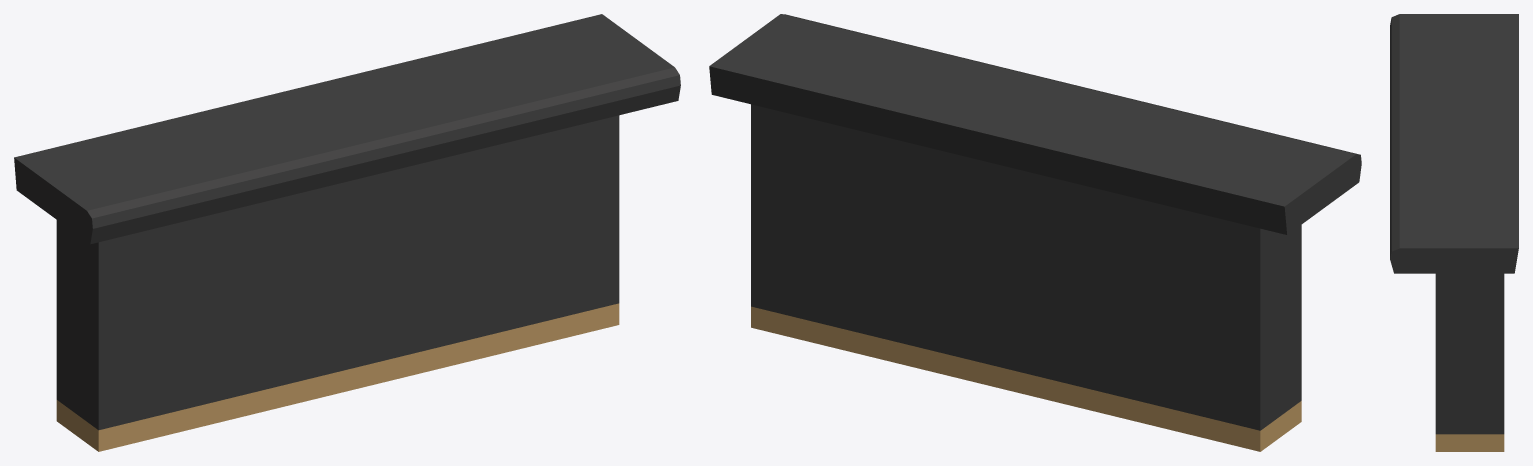
Rendered from Bar.fbx.
The picture shows the model from 3 angles, left to right: view 1: azimuth 30°, elevation 25°; view 2: azimuth 150°, elevation 25°; view 3: azimuth 270°, elevation 25°; orthographic projection. The views are drawn at different scales.
Visible parts, largest first — view 1: Bar; view 2: Bar; view 3: Bar.
Boxes of the visible parts, bbox=[...] form: Bar: bbox=[14, 14, 680, 451]; Bar: bbox=[709, 14, 1361, 451]; Bar: bbox=[1390, 14, 1518, 451].
Size of the model in its own units: 238 by 103 by 55.27.
